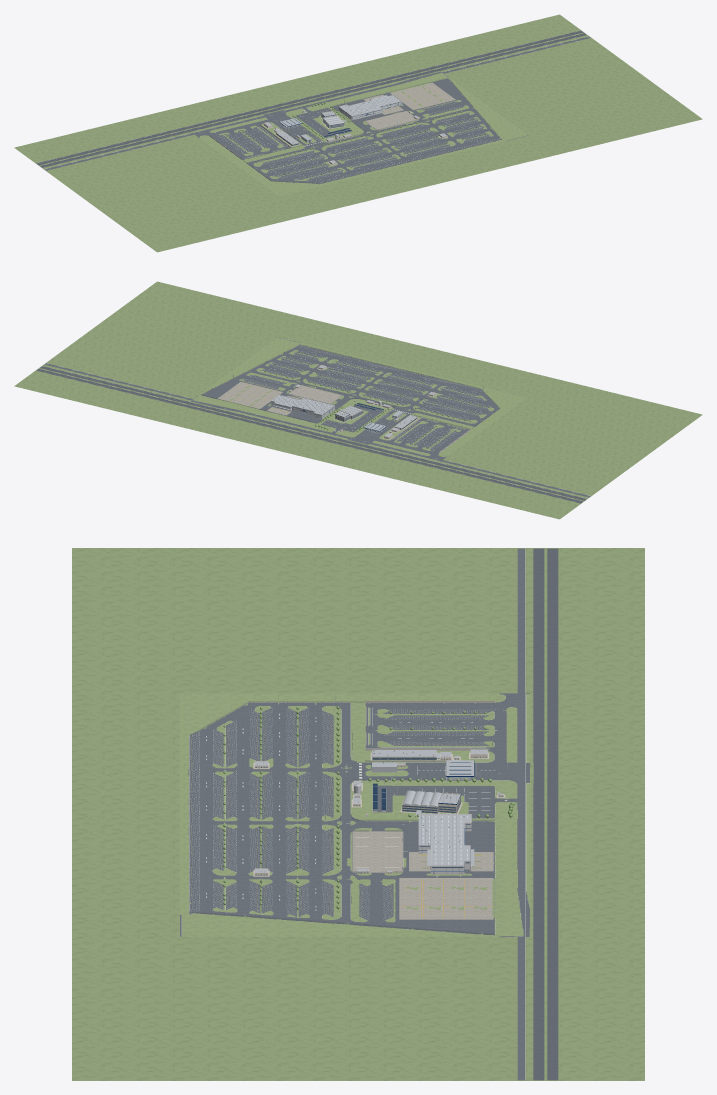
File: patio.glb
3 views of the same model, one above another, from view 1: azimuth 30°, elevation 25°; view 2: azimuth 150°, elevation 25°; view 3: azimuth 270°, elevation 25° (orthographic). The views are drawn at different scales.
Visible parts, largest first — view 1: Terreno_Entorno, Pavimento_Asfalto_Recinto, Gramados_Canteiros, Rodovia_BR277_Pista_1, Rodovia_BR277_Pista_2, Piso_Concreto_Patios, Armazem_Conferencia, Pavimento_Via_Marginal_Extensao, Arvores_Paisagismo; view 2: Terreno_Entorno, Pavimento_Asfalto_Recinto, Gramados_Canteiros, Rodovia_BR277_Pista_2, Rodovia_BR277_Pista_1, Piso_Concreto_Patios, Armazem_Conferencia, Pavimento_Via_Marginal_Extensao, Arvores_Paisagismo; view 3: Terreno_Entorno, Pavimento_Asfalto_Recinto, Gramados_Canteiros, Piso_Concreto_Patios, Rodovia_BR277_Pista_1, Rodovia_BR277_Pista_2, Armazem_Conferencia, Pavimento_Via_Marginal_Extensao, Meio_Fio, Arvores_Paisagismo.
Part boxes in pixels (x1=…): Terreno_Entorno: x1=14, y1=14, x2=702, y2=252; Pavimento_Asfalto_Recinto: x1=192, y1=71, x2=527, y2=184; Gramados_Canteiros: x1=192, y1=71, x2=527, y2=196; Rodovia_BR277_Pista_1: x1=40, y1=33, x2=586, y2=167; Rodovia_BR277_Pista_2: x1=36, y1=30, x2=583, y2=165; Piso_Concreto_Patios: x1=363, y1=82, x2=455, y2=130; Armazem_Conferencia: x1=338, y1=95, x2=401, y2=120; Pavimento_Via_Marginal_Extensao: x1=44, y1=36, x2=590, y2=170; Arvores_Paisagismo: x1=224, y1=102, x2=486, y2=178; Terreno_Entorno: x1=14, y1=281, x2=702, y2=519; Pavimento_Asfalto_Recinto: x1=190, y1=337, x2=499, y2=461; Gramados_Canteiros: x1=192, y1=337, x2=526, y2=461; Rodovia_BR277_Pista_2: x1=36, y1=368, x2=583, y2=503; Rodovia_BR277_Pista_1: x1=40, y1=366, x2=586, y2=500; Piso_Concreto_Patios: x1=217, y1=382, x2=342, y2=415; Armazem_Conferencia: x1=271, y1=394, x2=334, y2=418; Pavimento_Via_Marginal_Extensao: x1=45, y1=363, x2=590, y2=497; Arvores_Paisagismo: x1=264, y1=351, x2=489, y2=447; Terreno_Entorno: x1=72, y1=548, x2=644, y2=1080; Pavimento_Asfalto_Recinto: x1=180, y1=693, x2=530, y2=936; Gramados_Canteiros: x1=179, y1=693, x2=530, y2=936; Piso_Concreto_Patios: x1=352, y1=831, x2=493, y2=919; Rodovia_BR277_Pista_1: x1=533, y1=548, x2=544, y2=1080; Rodovia_BR277_Pista_2: x1=547, y1=548, x2=558, y2=1080; Armazem_Conferencia: x1=418, y1=814, x2=474, y2=874; Pavimento_Via_Marginal_Extensao: x1=517, y1=548, x2=525, y2=1080; Meio_Fio: x1=180, y1=694, x2=529, y2=936; Arvores_Paisagismo: x1=223, y1=706, x2=514, y2=910.
Size of the model in its own units: 1790 by 15.5 by 814.
Materials: 34 (6 with a texture image).
